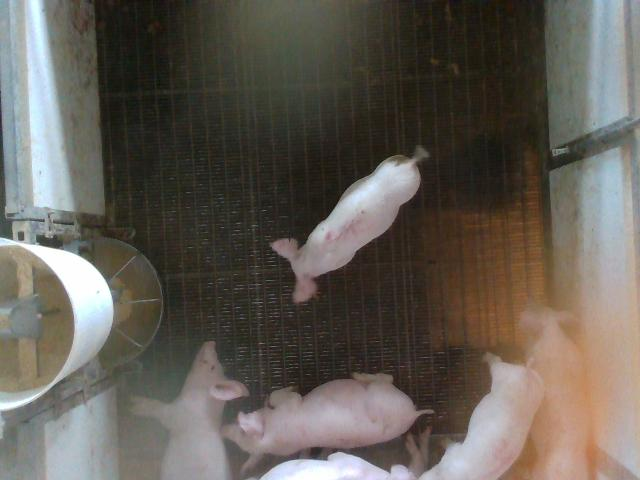pig-4: (420, 354, 544, 479)
pig-5: (270, 146, 429, 302)
